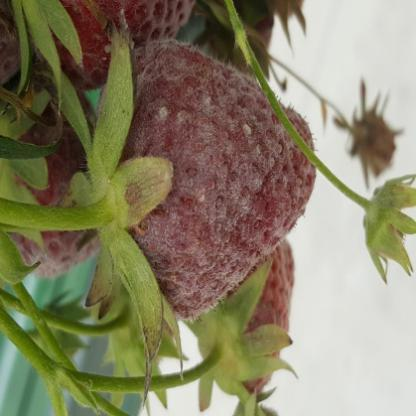Strawberry_Powdery_Mildew_Fruit: (94, 14, 318, 325), (8, 64, 102, 275), (16, 0, 200, 89)
